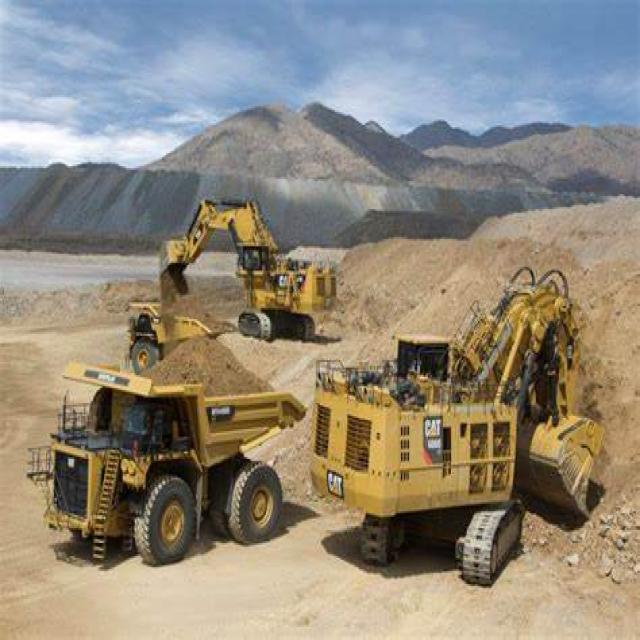dump_truck: (26, 338, 310, 565)
excavator: (312, 263, 616, 595), (154, 190, 340, 344)
